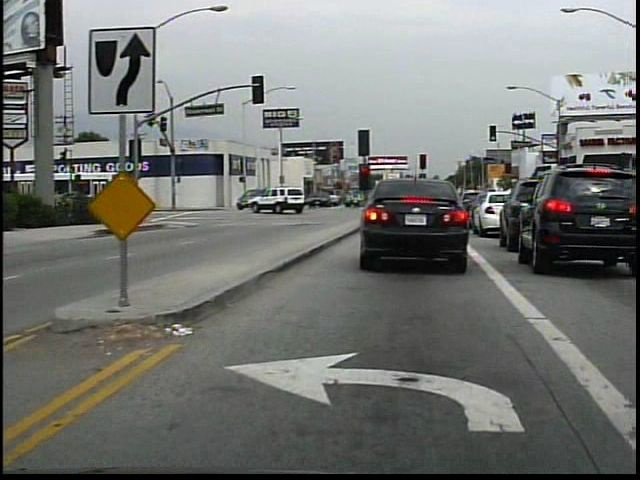person: (97, 189, 117, 225)
